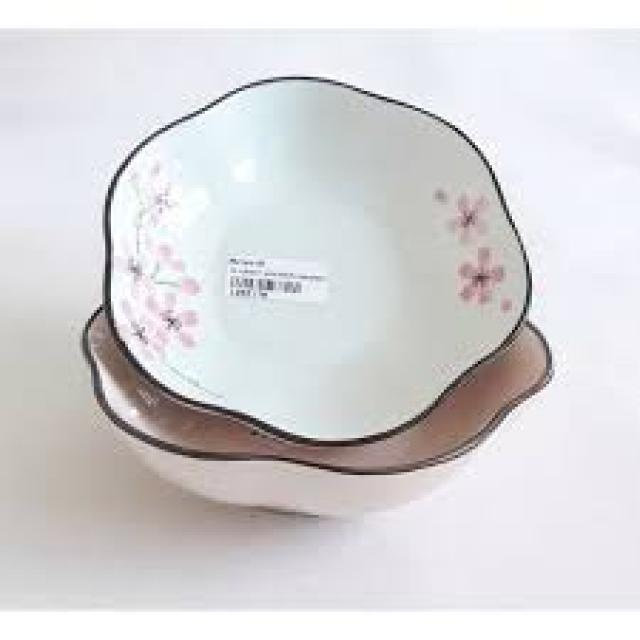Plate: (81, 66, 546, 457)
